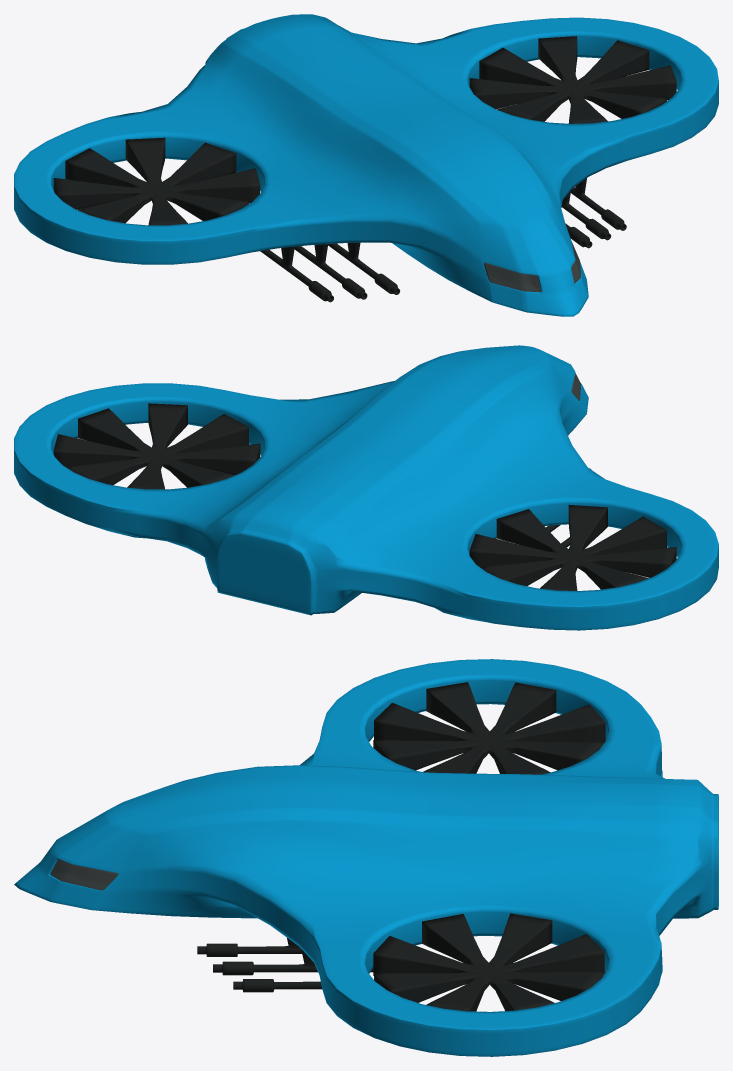
The model's file is ftEnemy.fbx.
The picture shows the model from 3 angles, top to bottom: view 1: azimuth 30°, elevation 25°; view 2: azimuth 150°, elevation 25°; view 3: azimuth 270°, elevation 25°; orthographic projection. The views are drawn at different scales.
Visible parts, largest first — view 1: Plane, Plane.002, Plane.003, Plane.001; view 2: Plane, Plane.002; view 3: Plane, Plane.002, Plane.003, Plane.001.
Part boxes in pixels (x1,y1,x2,y2): Plane: [14, 14, 718, 316]; Plane.002: [53, 36, 676, 225]; Plane.003: [260, 178, 626, 302]; Plane.001: [484, 241, 580, 292]; Plane: [14, 345, 718, 630]; Plane.002: [53, 403, 676, 590]; Plane: [14, 659, 718, 1056]; Plane.002: [373, 682, 605, 1011]; Plane.003: [197, 938, 373, 992]; Plane.001: [50, 859, 118, 890].
Size of the model in its own units: 1879 by 299 by 1509.
